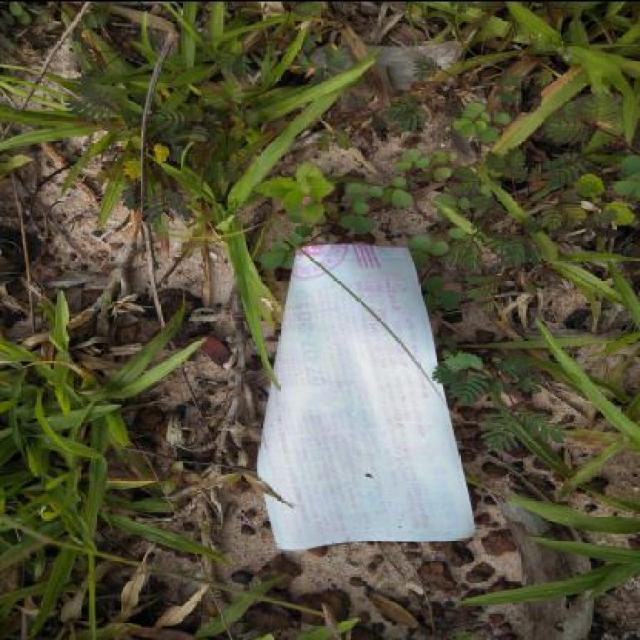paper: (252, 242, 477, 549)
